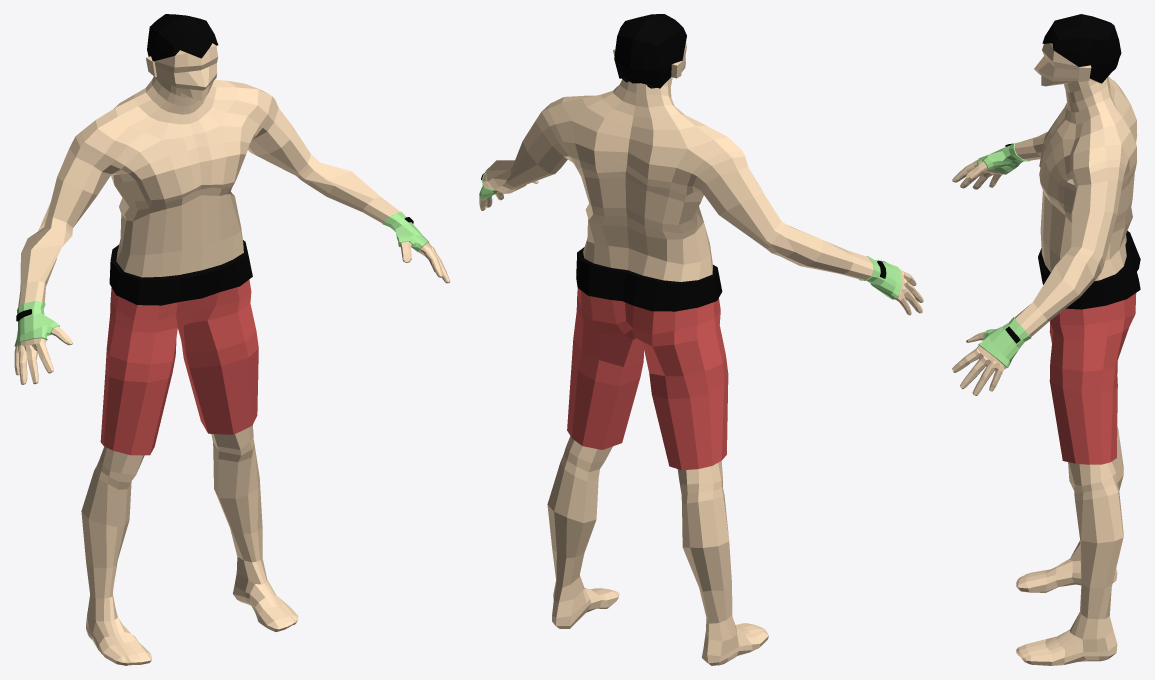
The model's file is barbarian_mesh.glb.
3 renders of one model, left to right at view 1: azimuth 30°, elevation 25°; view 2: azimuth 150°, elevation 25°; view 3: azimuth 270°, elevation 25°, orthographic. The views are drawn at different scales.
Visible parts, largest first — view 1: fighter_03.001; view 2: fighter_03.001; view 3: fighter_03.001.
Part boxes in pixels (x1,y1,x2,y2): fighter_03.001: (14, 14, 450, 665); fighter_03.001: (479, 14, 923, 665); fighter_03.001: (952, 14, 1140, 665).
Size of the model in its own units: 0.0159 by 0.0216 by 0.00607.
Materials: 1 (1 with a texture image).
